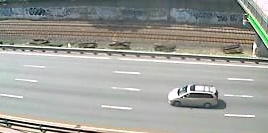car: (165, 82, 221, 110)
